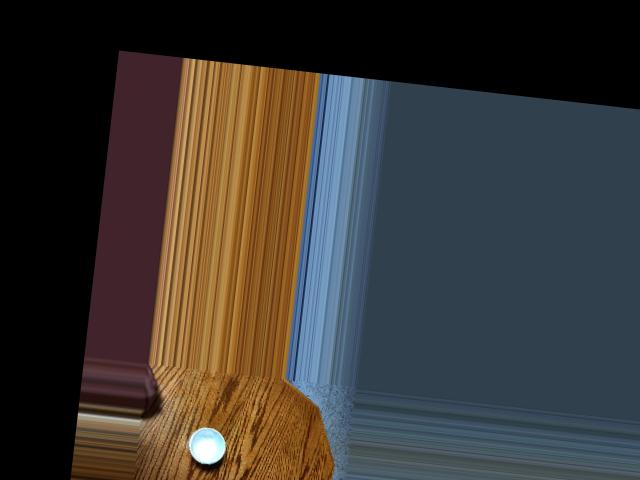cotage: (182, 423, 231, 465)
